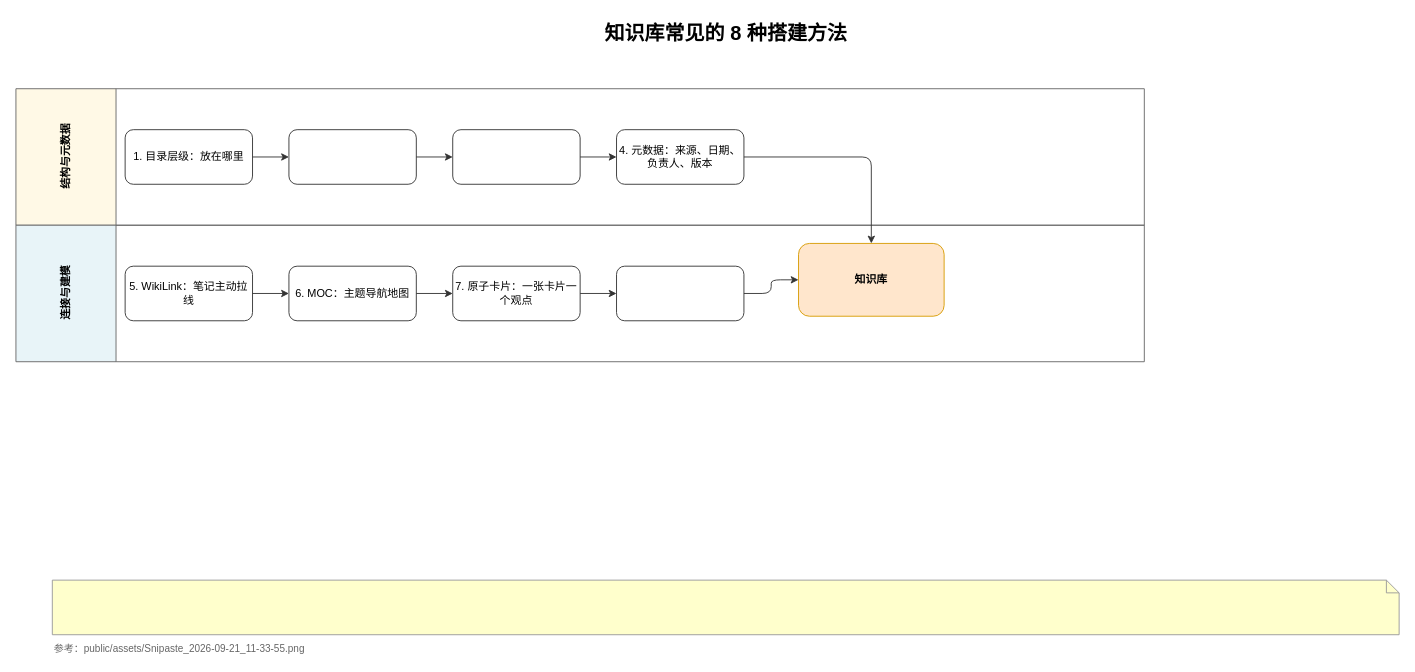
Some shapes in this 1415 by 672 pixel diagram are drawn without their labels. The centre of each missing label's shape, as x and y in pixels:
"2. 分类：统一叫法" belongs at point (352, 156).
"3. 标签：多个主题" belongs at point (516, 156).
"8. 本体 Ontology：规定实体、关系与规则" belongs at point (680, 293).
"先用简单方法把知识管住，再按问题升级" belongs at point (725, 607).
